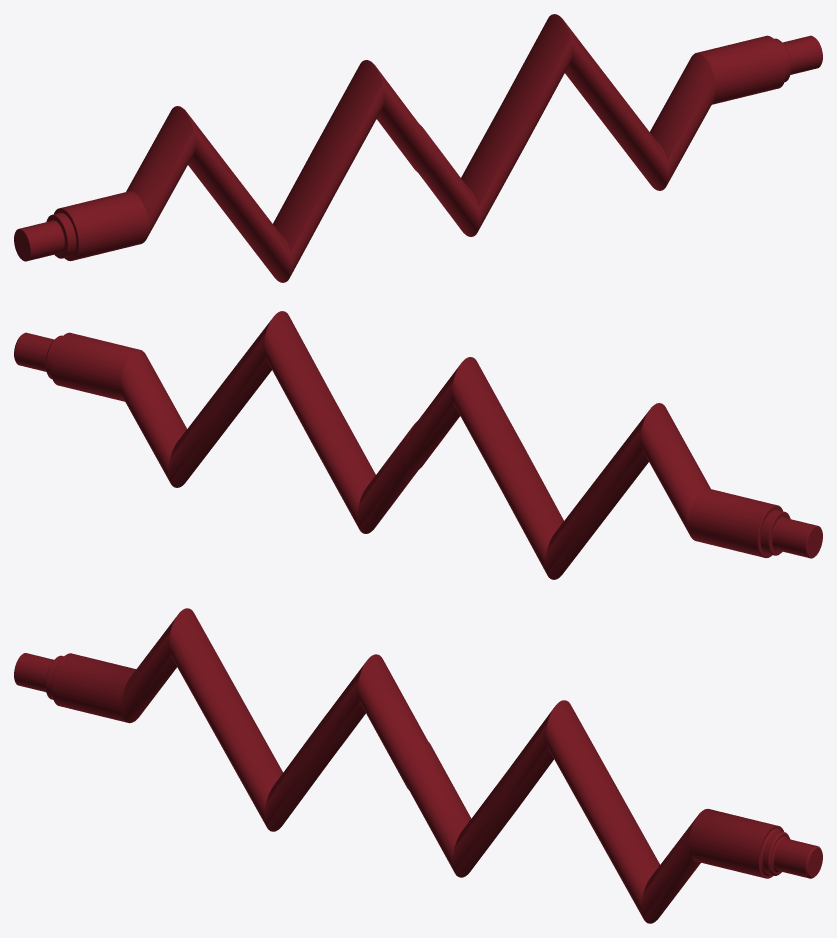
File: resistor_snap.fbx
3 views of the same model, one above another, from view 1: azimuth 30°, elevation 25°; view 2: azimuth 150°, elevation 25°; view 3: azimuth 330°, elevation 25° (orthographic).
Visible parts, largest first — view 1: Resistor.002, coonector_1; view 2: Resistor.002, coonector_1; view 3: Resistor.002, coonector_1.
Part boxes in pixels (bbox=[...]): Resistor.002: bbox=[14, 14, 785, 282]; coonector_1: bbox=[774, 35, 822, 82]; Resistor.002: bbox=[51, 311, 822, 579]; coonector_1: bbox=[14, 332, 62, 379]; Resistor.002: bbox=[14, 608, 777, 923]; coonector_1: bbox=[759, 826, 822, 878].
Bounding box in the file's own units: 337 × 79.67 × 19.97.
